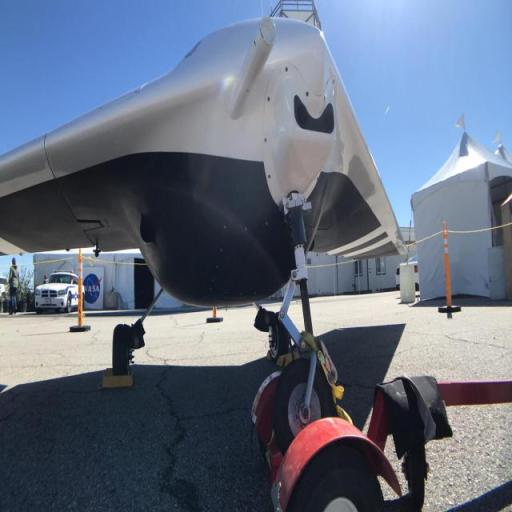uav: (0, 0, 412, 396)
